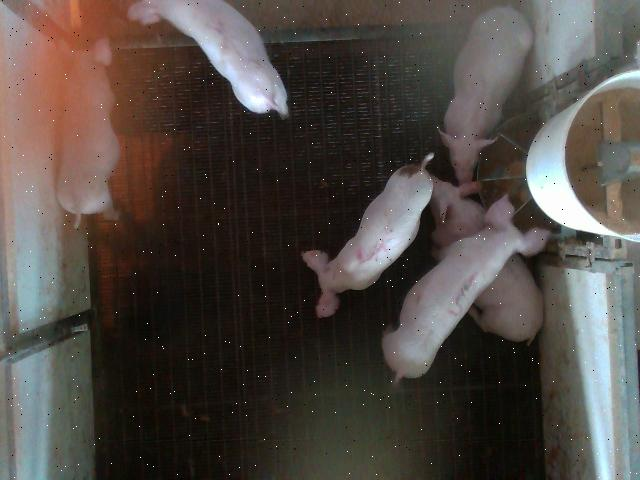pig-3: (382, 198, 550, 379)
pig-5: (301, 153, 434, 318)
